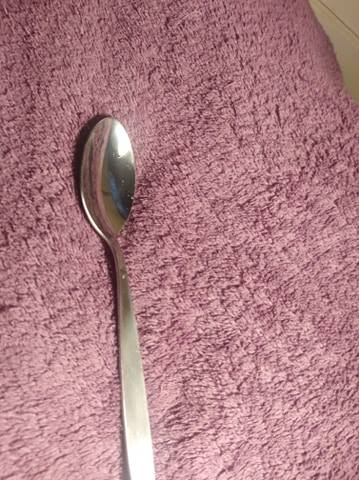Lyzka: (77, 113, 142, 242)
